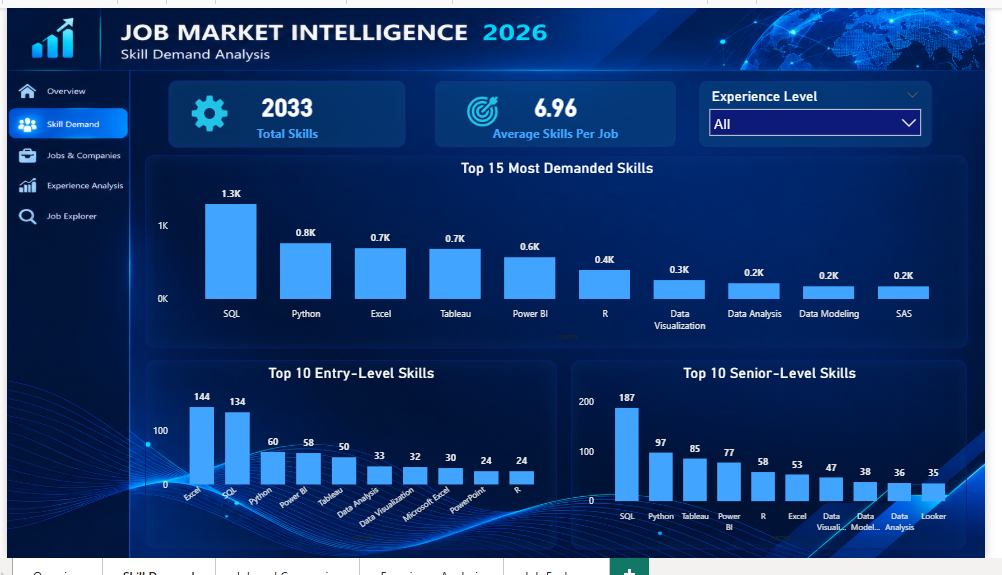

The page's visual inventory and layout, read from the dashboard file:
{"tool":"powerbi","page":{"name":"Skill Demand","canvas":[1280,720],"ordinal":1},"visuals":[{"type":"clusteredColumnChart","title":"Top 15 Most Demanded Skills","fields":{"Category":["skills_cleaned.name"],"Y":["CountNonNull(vacancy_skills_cleaned.skill_id)"]},"box":[180,193,1077.1,253.4],"z":0},{"type":"clusteredColumnChart","title":"Top 10 Entry-Level Skills","fields":{"Y":["CountNonNull(vacancy_skills_cleaned.skill_id)"],"Category":["skills_cleaned.name"]},"box":[180,460.8,538.6,247.7],"z":1000},{"type":"clusteredColumnChart","title":"Top 10 Senior-Level Skills","fields":{"Y":["CountNonNull(vacancy_skills_cleaned.skill_id)"],"Category":["skills_cleaned.name"]},"box":[738.7,460.8,518.4,247.7],"z":2000},{"type":"slicer","fields":{"Values":["vacancies_cleaned.experience_level_clean"]},"box":[904.3,93.6,306.7,89.3],"z":3000},{"type":"card","fields":{"Values":["skills_cleaned.Total Skills"]},"box":[210.2,93.6,312.5,89.3],"z":4000},{"type":"card","fields":{"Values":["vacancy_skills_cleaned.Average Skills Per Job"]},"box":[558.7,93.6,318.2,89.3],"z":5000},{"type":"actionButton","box":[0,132.5,162.7,40.3],"z":6000},{"type":"actionButton","box":[0,172.8,162.7,40.3],"z":7000},{"type":"actionButton","box":[0,92.2,162.7,40.3],"z":8000},{"type":"actionButton","box":[0,213.1,162.7,40.3],"z":9000},{"type":"actionButton","box":[0,253.4,162.7,40.3],"z":10000},{"type":"image","box":[231.8,112.8,67.7,51.3],"z":11000},{"type":"image","box":[590.8,106.7,63.6,59.5],"z":12000}]}

Visuals, with their boxes on the page's 1280x720 design canvas (x1, y1, x2, y2). These are canvas units, not pixel positions in the 1002x575 screenshot, which may show the page scaled, cropped or inside an application window:
"Top 15 Most Demanded Skills" clusteredColumnChart: select_region(180, 193, 1257, 446)
"Top 10 Entry-Level Skills" clusteredColumnChart: select_region(180, 461, 719, 708)
"Top 10 Senior-Level Skills" clusteredColumnChart: select_region(739, 461, 1257, 708)
slicer - vacancies_cleaned.experience_level_clean: select_region(904, 94, 1211, 183)
card - skills_cleaned.Total Skills: select_region(210, 94, 523, 183)
card - vacancy_skills_cleaned.Average Skills Per Job: select_region(559, 94, 877, 183)
actionButton: select_region(0, 132, 163, 173)
actionButton: select_region(0, 173, 163, 213)
actionButton: select_region(0, 92, 163, 132)
actionButton: select_region(0, 213, 163, 253)
actionButton: select_region(0, 253, 163, 294)
image: select_region(232, 113, 300, 164)
image: select_region(591, 107, 654, 166)
